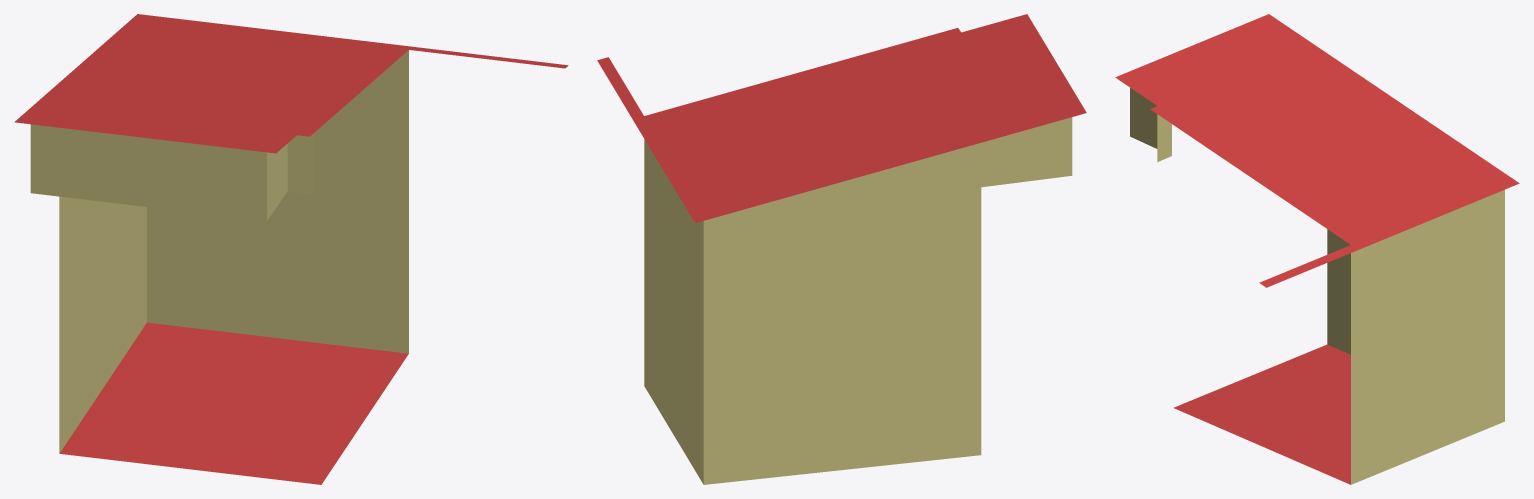
3 views of the same model, side by side, from view 1: azimuth 30°, elevation 25°; view 2: azimuth 150°, elevation 25°; view 3: azimuth 270°, elevation 25° (orthographic). The views are drawn at different scales.
Size of the model in its own units: 11.9 by 9.55 by 7.78.
